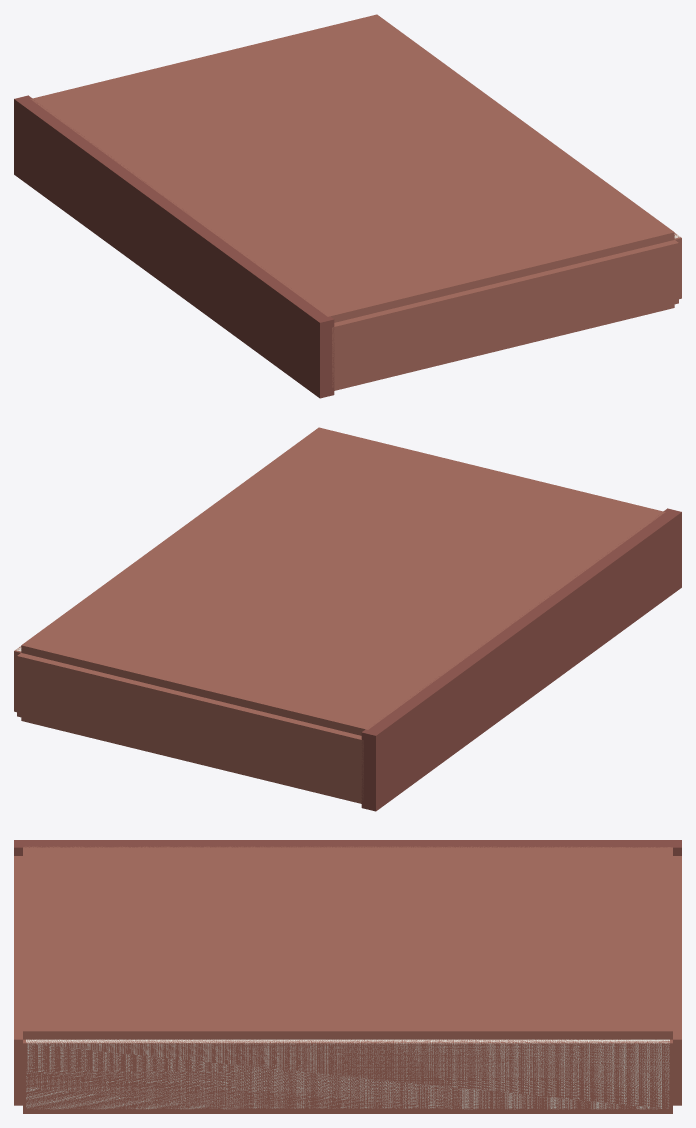
The model's file is libro.glb.
3 renders of one model, top to bottom at view 1: azimuth 30°, elevation 25°; view 2: azimuth 150°, elevation 25°; view 3: azimuth 270°, elevation 25°, orthographic. The views are drawn at different scales.
Parts seen in each view (by area): view 1: libro; view 2: libro; view 3: libro.
Boxes of the visible parts, x1=… form: libro: x1=14, y1=14, x2=681, y2=398; libro: x1=14, y1=427, x2=681, y2=811; libro: x1=14, y1=840, x2=681, y2=1113.
Size of the model in its own units: 0.152 by 0.03 by 0.22.
